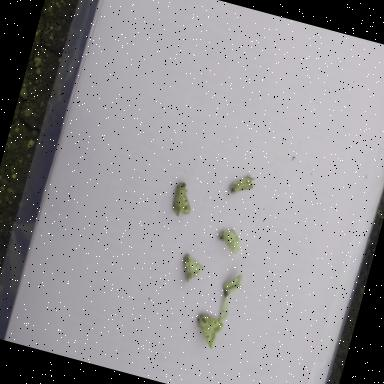abw: (214, 269, 246, 325), (191, 312, 226, 350), (169, 180, 198, 219), (178, 253, 207, 287), (228, 170, 258, 200), (216, 226, 244, 255)
